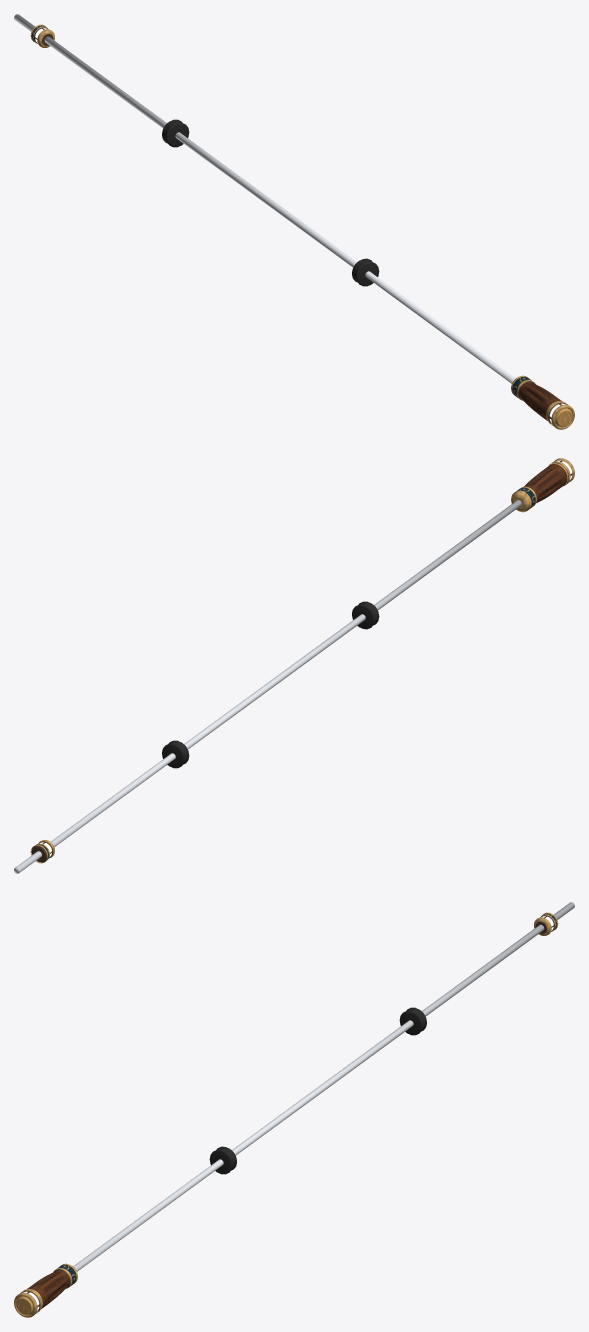
The model's file is fuzeball_rod_1man.glb.
The picture shows the model from 3 angles, top to bottom: view 1: azimuth 30°, elevation 25°; view 2: azimuth 150°, elevation 25°; view 3: azimuth 330°, elevation 25°; orthographic projection.
Parts seen in each view (by area): view 1: rod1_bar.002, rod1_handle_walnut_grip, CylinderR; view 2: rod1_bar.002, rod1_handle_walnut_grip, CylinderR; view 3: rod1_bar.002, rod1_handle_walnut_grip, CylinderR.
Boxes of the visible parts, x1,y1,x2,y2 form: rod1_bar.002: (14,14,515,383); rod1_handle_walnut_grip: (519,382,561,420); CylinderR: (162,119,189,147); rod1_bar.002: (14,500,521,873); rod1_handle_walnut_grip: (524,464,567,502); CylinderR: (162,740,189,768); rod1_bar.002: (73,902,574,1271); rod1_handle_walnut_grip: (27,1270,69,1308); CylinderR: (399,1007,426,1035).
Bounding box in the file's own units: 3.02 × 3.02 × 124.
8 materials, 6 textured.
